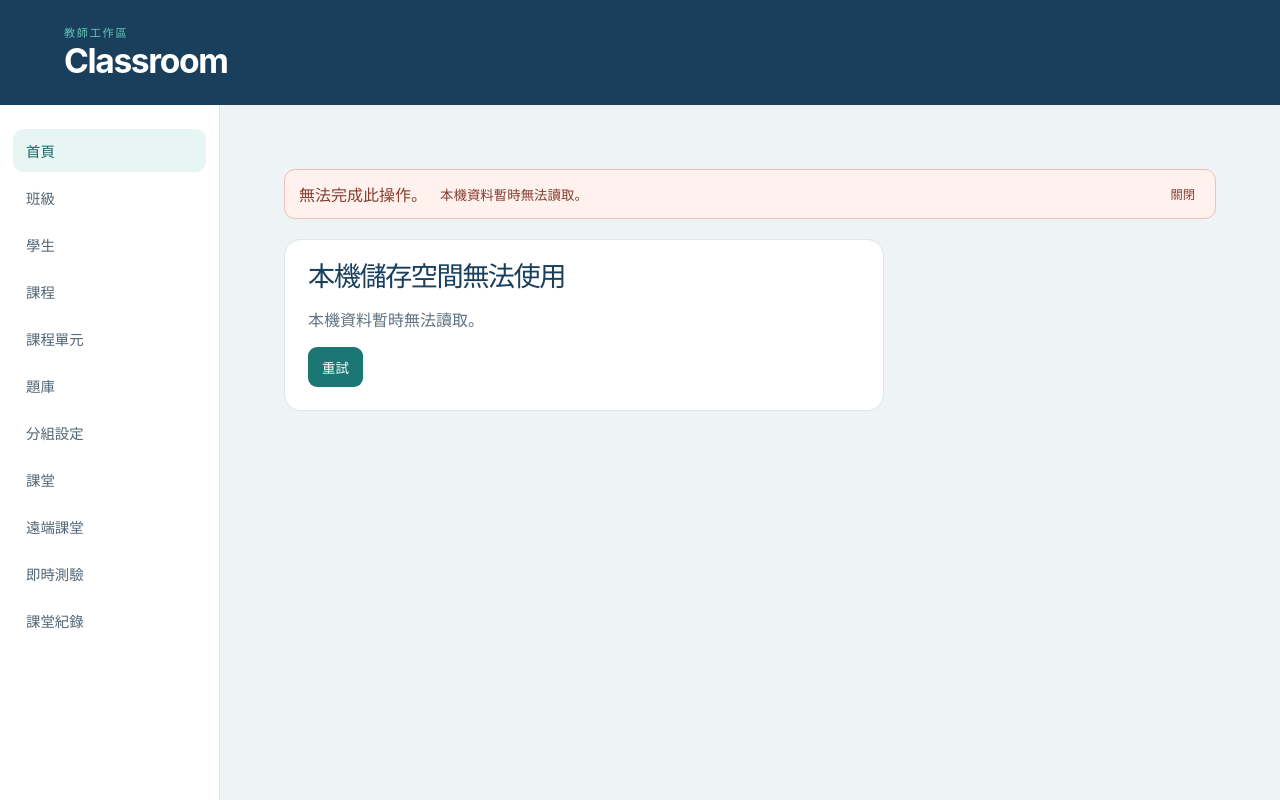
Teacher initialization reliability › reaches the error UI and handles retry success
Expected: the heading "本機儲存空間無法使用" is shown, [308,260,565,293]
Expected: the message shows "本機資料暫時無法讀取。", [440,187,588,203]
What coordinates should you click on to do the following:
click the button "重試"
I would click on:
 (335, 367)
Its box is [308,347,363,387].
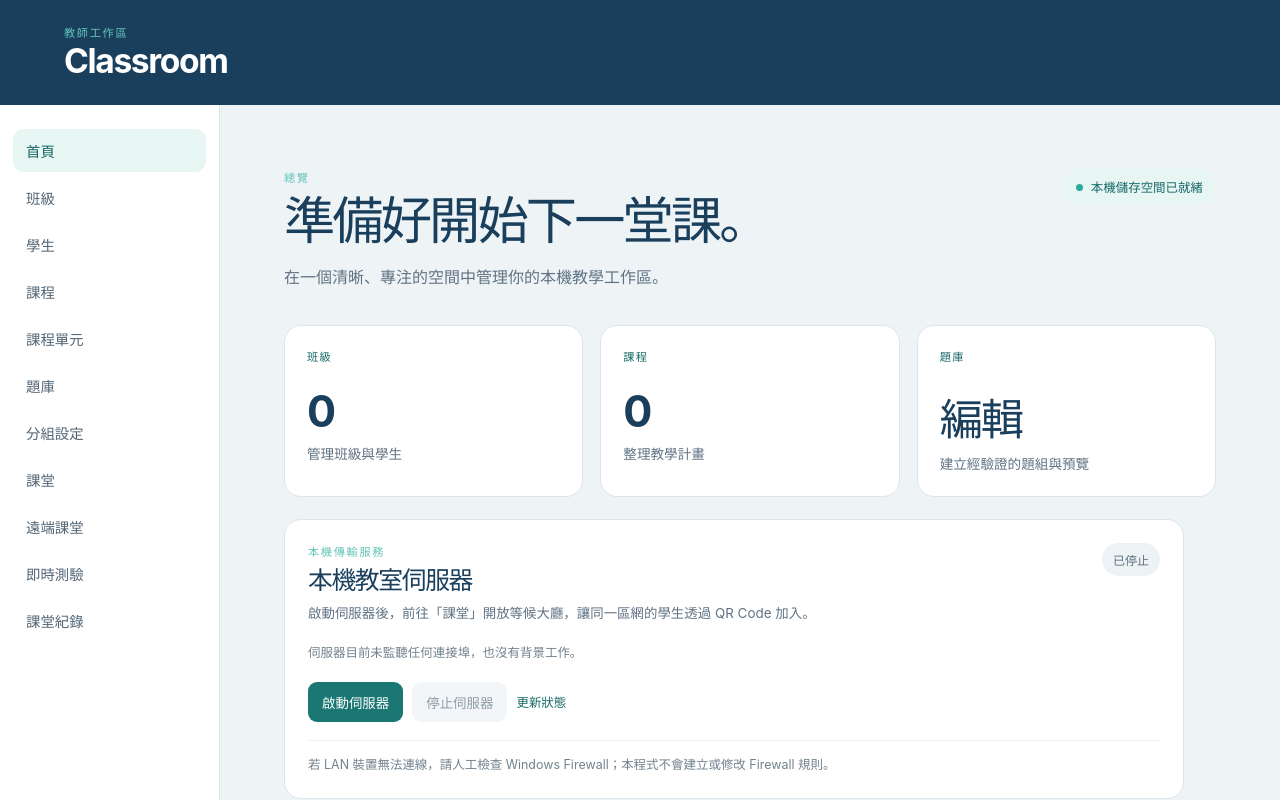
Now the text "本機儲存空間已就緒" is shown, box [1063,169,1216,205]
Now the message "無法完成此操作。 本機資料暫時無法讀取。 關閉" is gone
